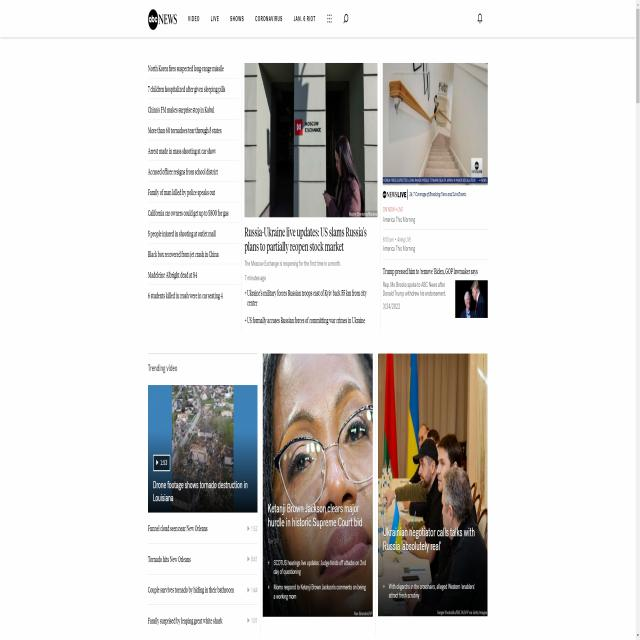search: (340, 7, 353, 29)
tab-bar: (147, 2, 353, 35)
